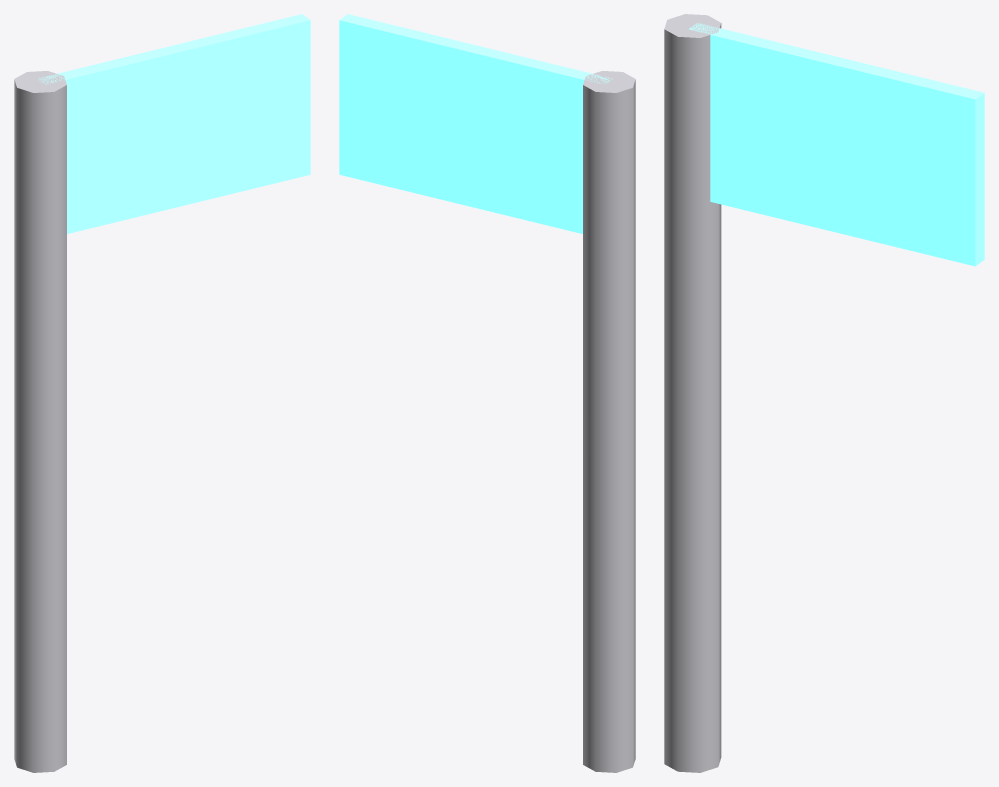
The model's file is checkpoint.gltf.
3 views of the same model, side by side, from view 1: azimuth 30°, elevation 25°; view 2: azimuth 150°, elevation 25°; view 3: azimuth 330°, elevation 25° (orthographic). The views are drawn at different scales.
Parts seen in each view (by area): view 1: checkpoint_1, checkpoint_0; view 2: checkpoint_1, checkpoint_0; view 3: checkpoint_1, checkpoint_0.
Boxes of the visible parts, x1,y1,x2,y2 form: checkpoint_1: [38, 14, 310, 233]; checkpoint_0: [14, 71, 66, 772]; checkpoint_1: [339, 14, 612, 233]; checkpoint_0: [583, 71, 635, 772]; checkpoint_1: [689, 23, 984, 266]; checkpoint_0: [664, 14, 721, 772].
Size of the model in its own units: 0.98 by 2.2 by 0.16.
